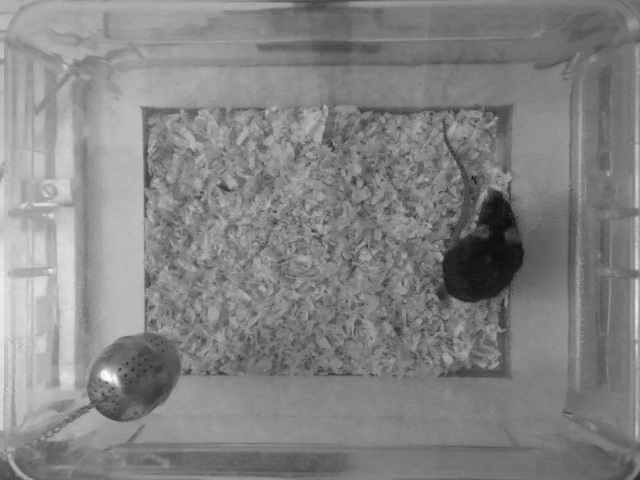mice: (437, 115, 526, 306)
